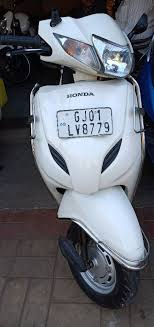doublelinenumberplate: (55, 105, 114, 139)
